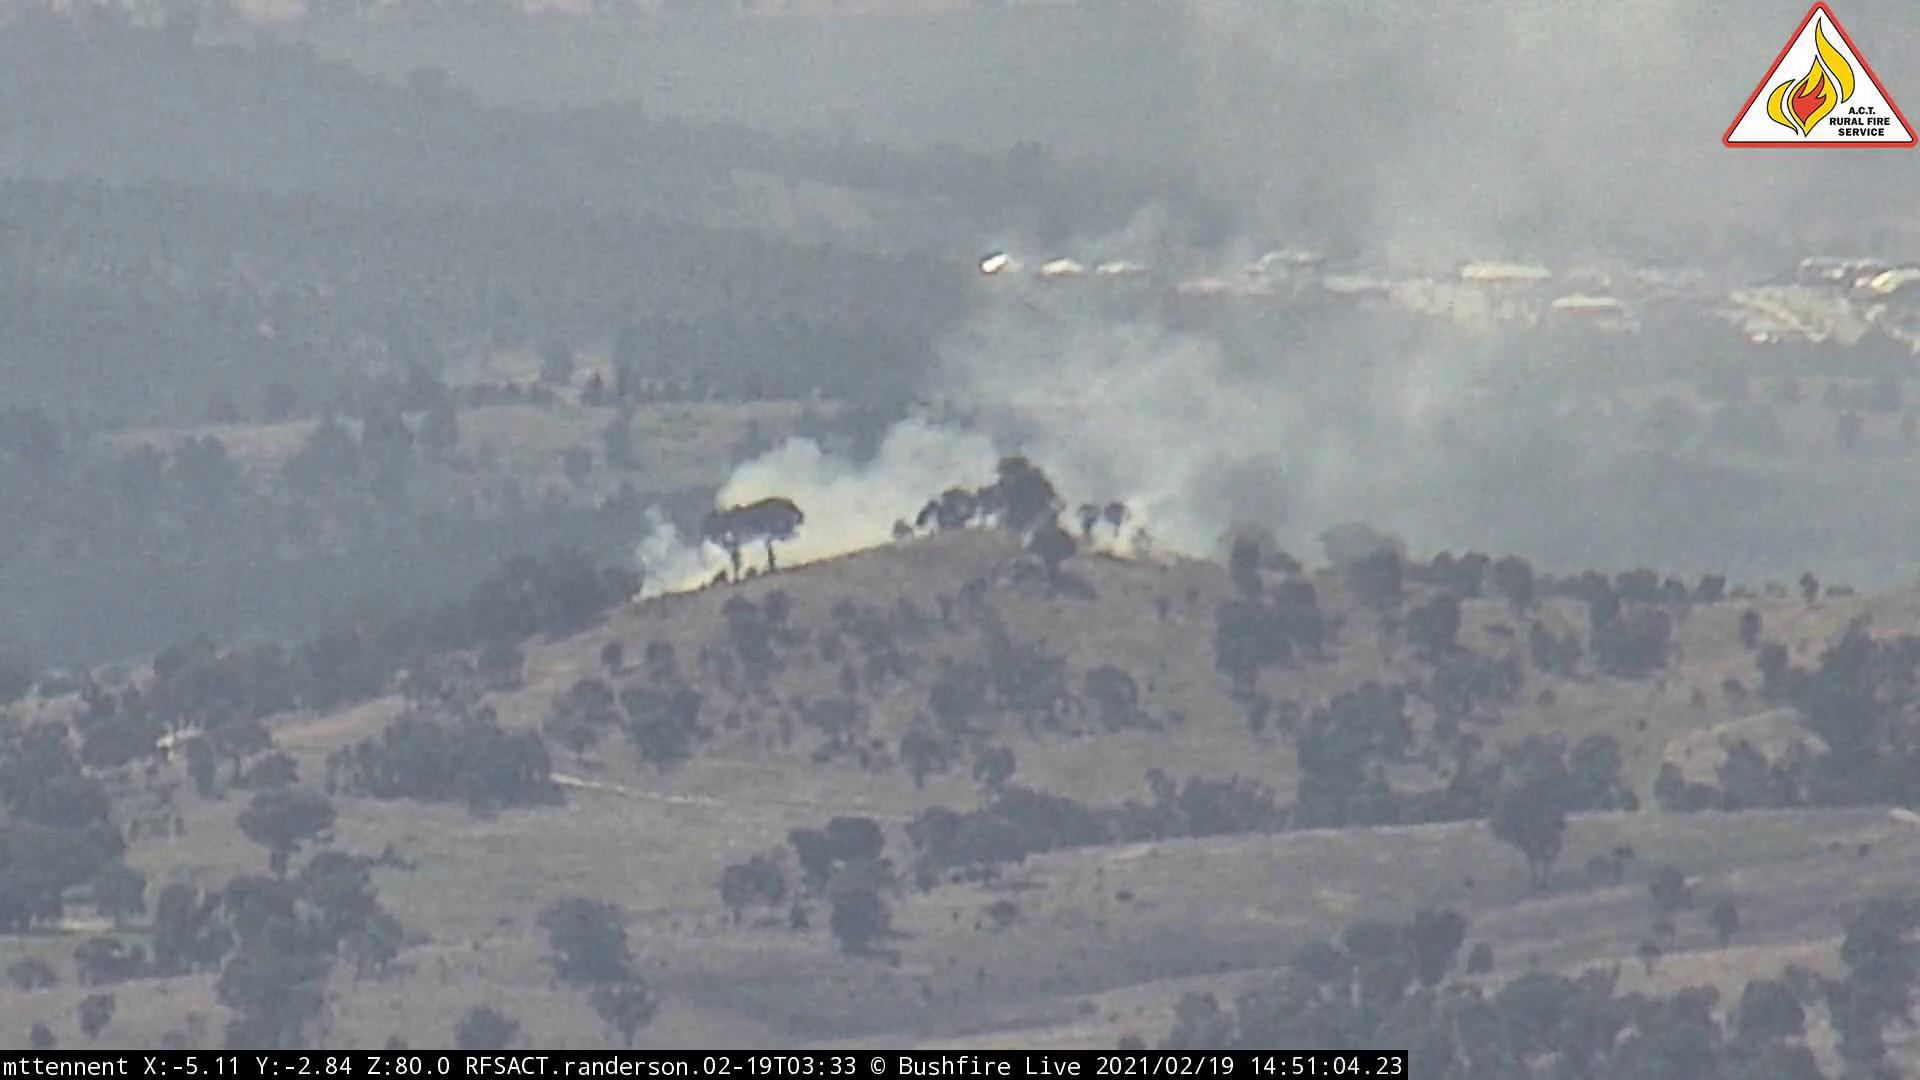Smoke: (618, 24, 1693, 615)
